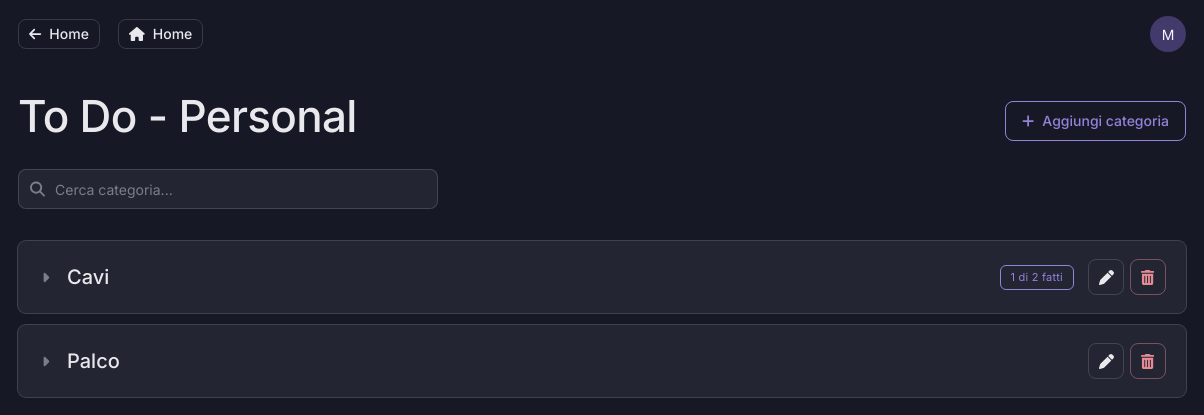
Scenario: CategoryListPage › filtra le categorie per nome
This screenshot has width=1204, height=415.
Check: the button "Cavi" is shown, box [38,265,986,289]
In the search field labelled "Cerca categoria...": (228, 189) [18,169,438,209], type "pal"
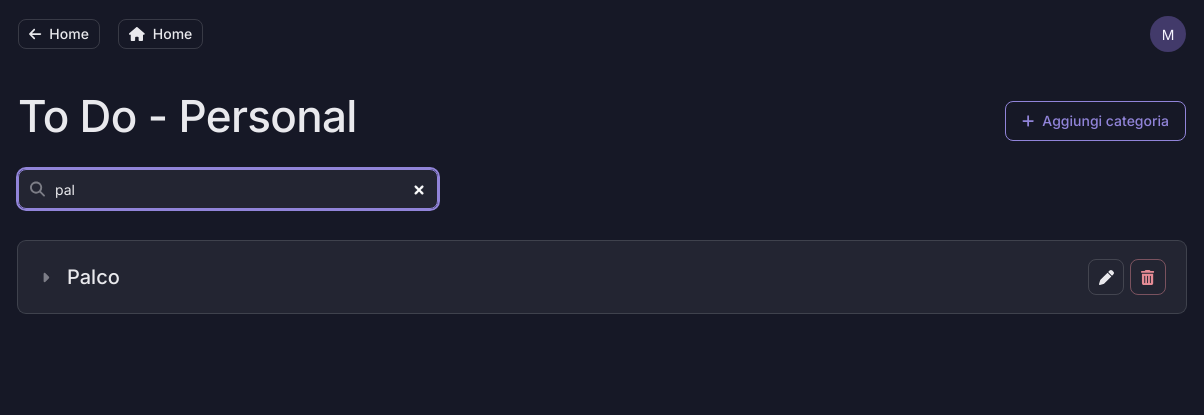
Check: the button "Palco" is shown, box [38,265,1074,289]
Check: the button "Cavi" is gone
